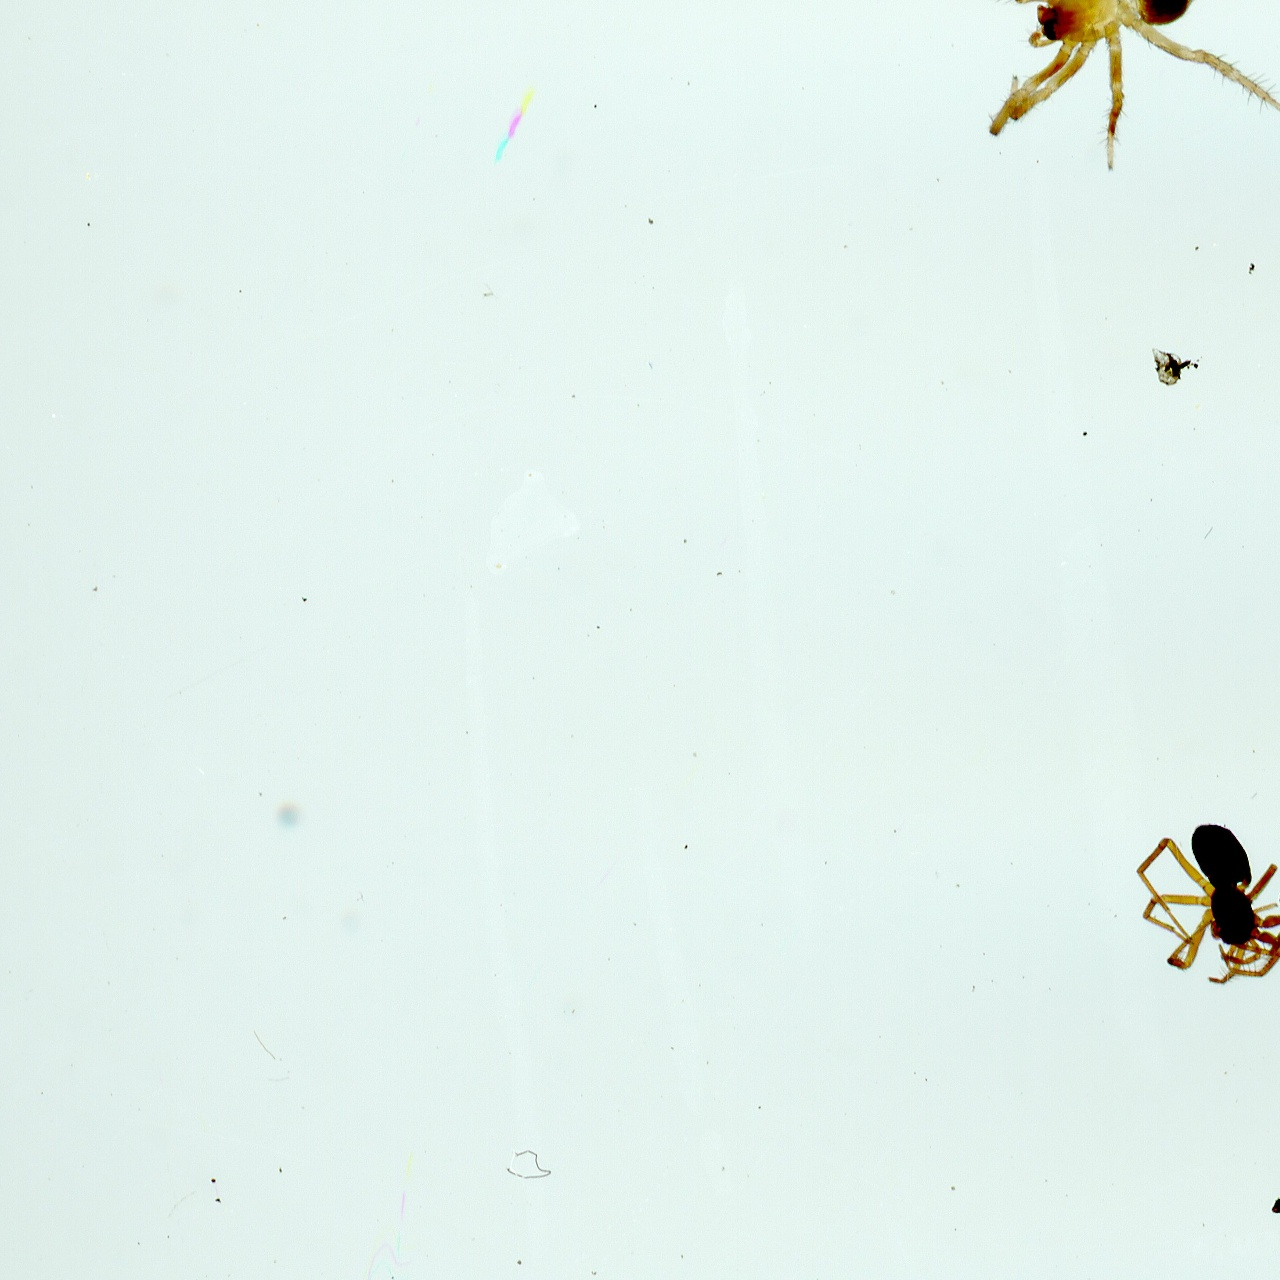arthropod: (964, 0, 1280, 168), (1133, 822, 1280, 983)
